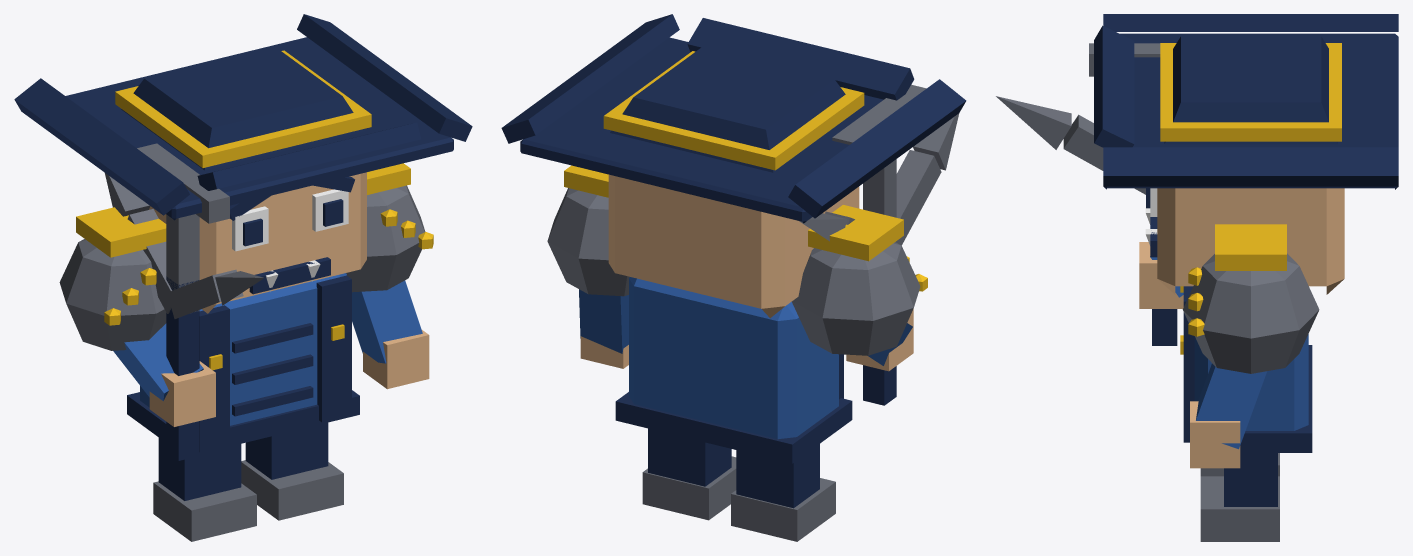
File: warlord_r13.glb
3 views of the same model, side by side, from view 1: azimuth 30°, elevation 25°; view 2: azimuth 150°, elevation 25°; view 3: azimuth 270°, elevation 25° (orthographic). The views are drawn at different scales.
Visible parts, largest first — view 1: warlord_r13_mesh; view 2: warlord_r13_mesh; view 3: warlord_r13_mesh.
Part boxes in pixels (x1,y1,x2,y2): warlord_r13_mesh: (14,14,472,541); warlord_r13_mesh: (501,14,966,541); warlord_r13_mesh: (996,14,1398,541).
Bounding box in the file's own units: 3.19 × 3.6 × 3.03.
1 material, 1 textured.
